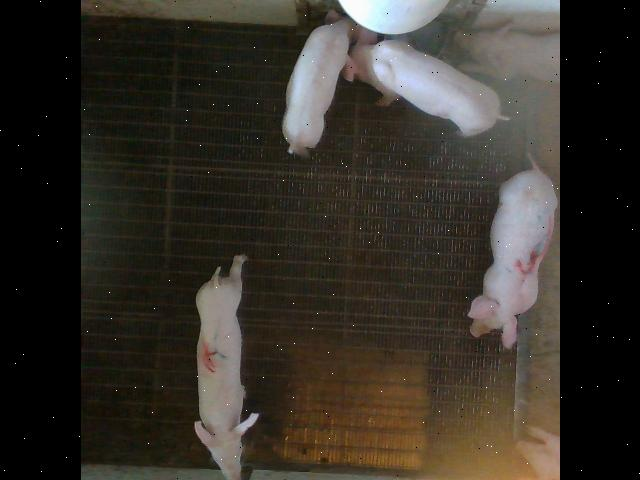pig-3: (468, 154, 556, 349)
pig-4: (194, 255, 257, 480)
